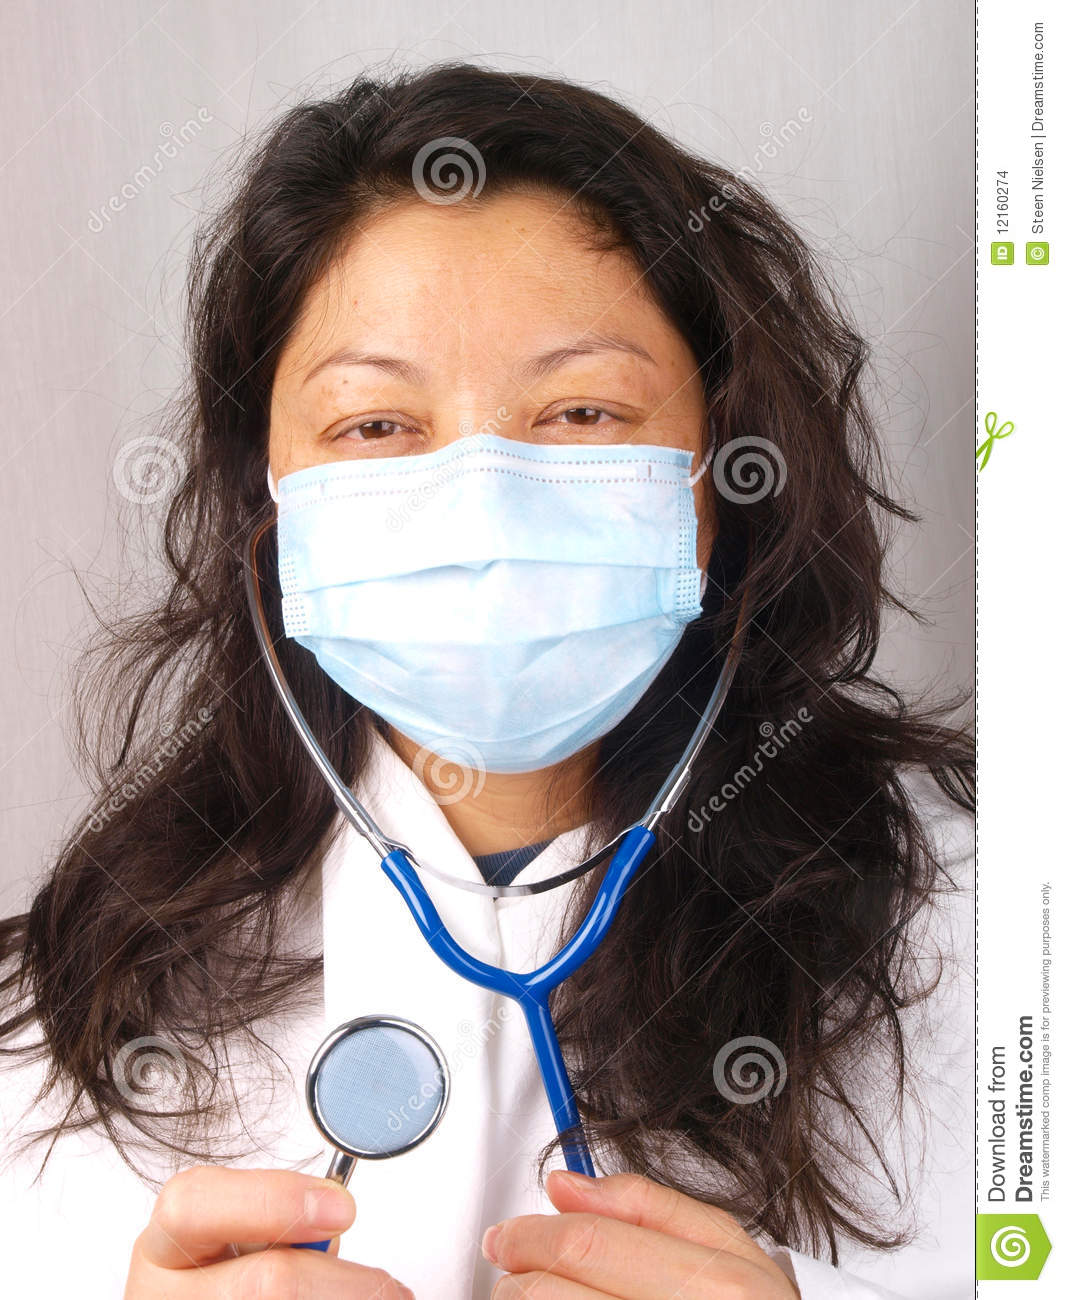mask: (262, 428, 704, 776)
